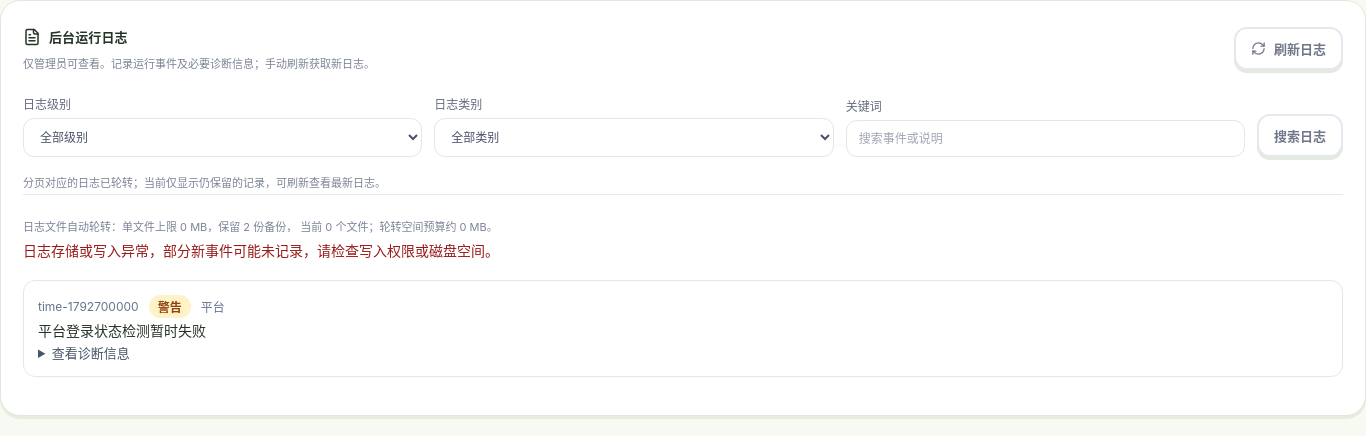
Test: shows an empty state and safe storage warnings without server paths or unknown details
Click the button "刷新日志": [1288, 49] box [1234,27,1343,70]
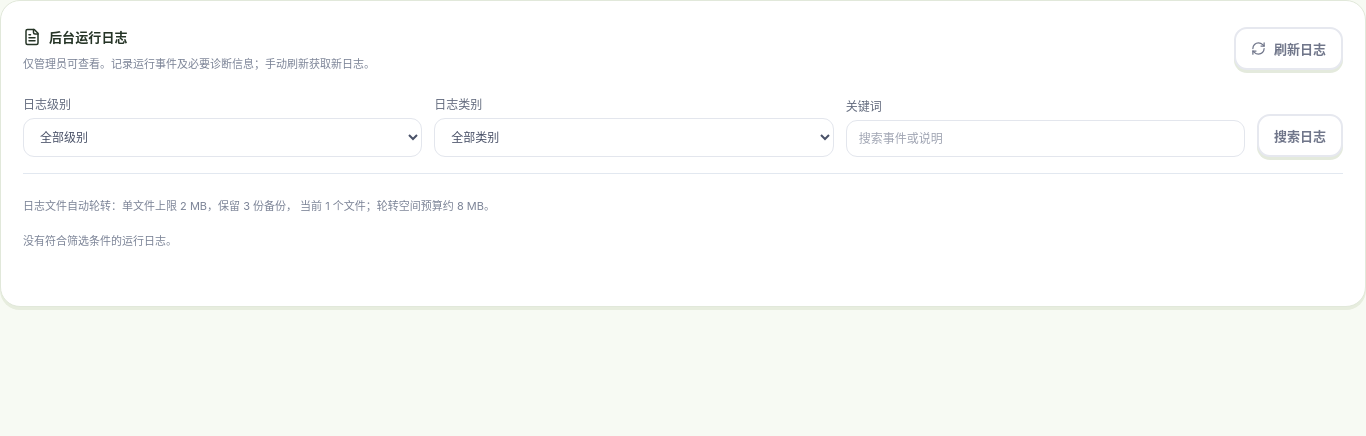
expect the text "没有符合筛选条件的运行日志" is shown: met, box [23,234,177,248]
